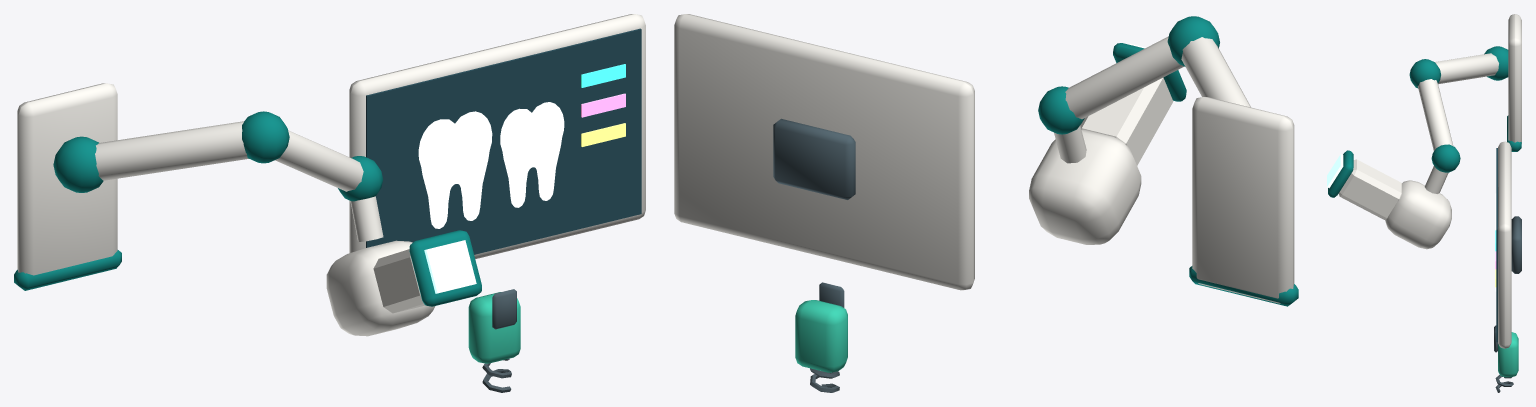
File: digital_xray.glb
3 renders of one model, left to right at view 1: azimuth 30°, elevation 25°; view 2: azimuth 150°, elevation 25°; view 3: azimuth 270°, elevation 25°, orthographic. The views are drawn at different scales.
Parts seen in each view (by area): view 1: DigitalXray; view 2: DigitalXray; view 3: DigitalXray.
Boxes of the visible parts, x1,y1,x2,y2 form: DigitalXray: (14,14,645,392); DigitalXray: (674,14,1298,392); DigitalXray: (1327,14,1521,392).
Size of the model in its own units: 1.27 by 0.7722 by 0.5651.
